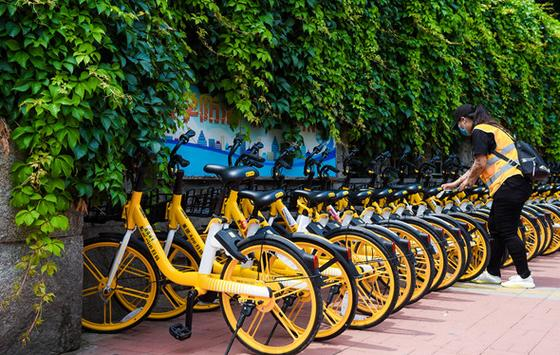单车: (93, 155, 344, 355)
